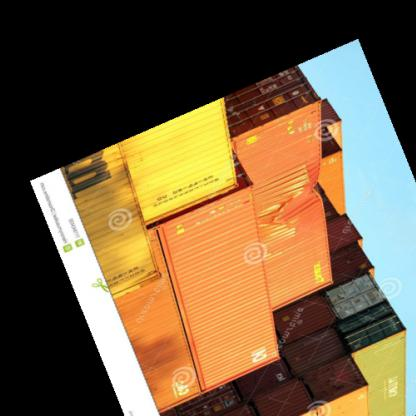Damage: (264, 174, 324, 236)
